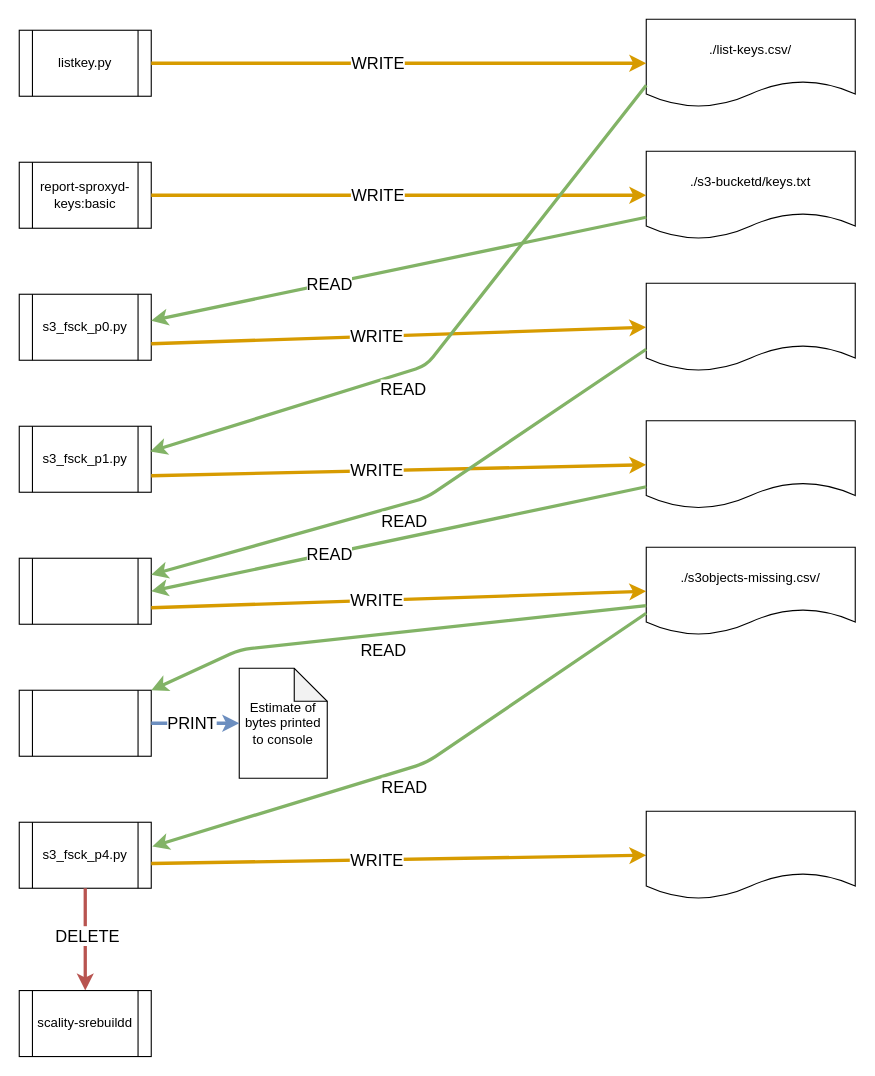
Image size: 875x1076. Some labels were removed from this diagram. The shapes that lost their labels are listed below. From the top down, each one's centre as x and y in pixels, then its label:
At point 750,326: "./s3-dig-keys.csv/".
At point 750,464: "./arc-keys.csv/".
At point 84,590: "s3_fsck_p2.py".
At point 84,722: "s3_fsck_p3.py".
At point 750,854: "./deleted-s3-orphans.csv/".
